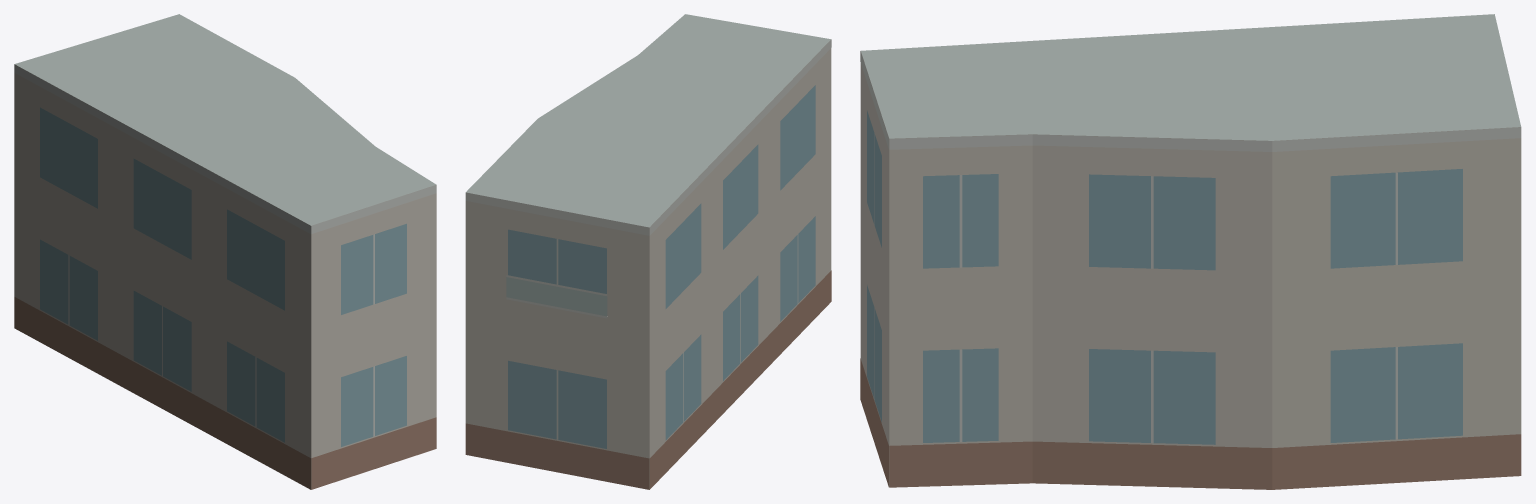
File: survey-upis-32709971.glb
3 views of the same model, side by side, from view 1: azimuth 30°, elevation 25°; view 2: azimuth 150°, elevation 25°; view 3: azimuth 270°, elevation 25° (orthographic). The views are drawn at different scales.
Visible parts, largest first — view 1: survey-upis-32709971.tmp; view 2: survey-upis-32709971.tmp; view 3: survey-upis-32709971.tmp.
Part boxes in pixels (bbox=[...]): survey-upis-32709971.tmp: bbox=[14, 14, 436, 489]; survey-upis-32709971.tmp: bbox=[465, 14, 831, 489]; survey-upis-32709971.tmp: bbox=[860, 14, 1521, 489].
Size of the model in its own units: 5.94 by 7.6 by 13.05.
